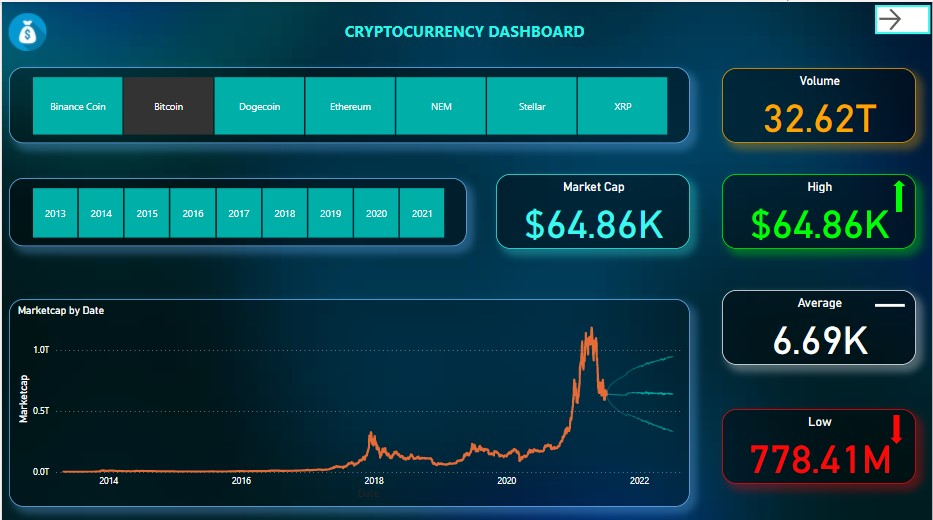

What the dashboard file says about the page in this screenshot:
{"tool":"powerbi","page":{"name":"Page 1","canvas":[1280,720],"ordinal":0},"visuals":[{"type":"slicer","fields":{"Values":["CryptoData.Name"]},"box":[9.6,89.5,937.3,104.6],"z":0},{"type":"slicer","fields":{"Values":["CryptoData.Year"]},"box":[9.6,242.2,630.4,93.6],"z":1000},{"type":"lineChart","fields":{"Y":["Sum(CryptoData.Marketcap)"],"Category":["CryptoData.Date"]},"box":[9.6,408.8,937.3,286.3],"z":2000},{"type":"actionButton","box":[1201.5,4.1,75.7,39.9],"z":3000},{"type":"image","box":[4.1,1.4,61.9,79.8],"z":4000},{"type":"textbox","box":[466.6,20.6,357.8,41.3],"z":5000},{"type":"card","title":"High","fields":{"Values":["Max(CryptoData.High)"]},"box":[991,236.7,267,103.2],"z":6000},{"type":"card","title":"Volume","fields":{"Values":["Sum(CryptoData.Volume)"]},"box":[991,90.8,267,103.2],"z":7000},{"type":"card","title":"Average","fields":{"Values":["Avg(CryptoData.Average)"]},"box":[991,396.4,267,103.2],"z":8000},{"type":"card","title":"Low","fields":{"Values":["Min(CryptoData.Marketcap)"]},"box":[991,560.2,267,103.2],"z":9000},{"type":"shape","box":[1226.3,245,16.5,44],"z":10000},{"type":"shape","box":[1222.2,568.4,17.9,39.9],"z":11000},{"type":"card","title":"Market Cap","fields":{"Values":["Max(CryptoData.High)"]},"box":[679.9,236.7,267,103.2],"z":12000},{"type":"shape","box":[1201.5,400.5,41.3,34.4],"z":14000}]}

Visuals, with their boxes in screenshot pixels (x1, y1, x2, y2), scaled from the page's 1280x720 canvas onto the 933x520 screenshot:
slicer - CryptoData.Name: box(7, 65, 690, 140)
slicer - CryptoData.Year: box(7, 175, 466, 243)
lineChart - Sum(CryptoData.Marketcap) x CryptoData.Date: box(7, 295, 690, 502)
actionButton: box(876, 3, 931, 32)
image: box(3, 1, 48, 59)
textbox: box(340, 15, 601, 45)
"High" card: box(722, 171, 917, 245)
"Volume" card: box(722, 66, 917, 140)
"Average" card: box(722, 286, 917, 361)
"Low" card: box(722, 405, 917, 479)
shape: box(894, 177, 906, 209)
shape: box(891, 411, 904, 439)
"Market Cap" card: box(496, 171, 690, 245)
shape: box(876, 289, 906, 314)
